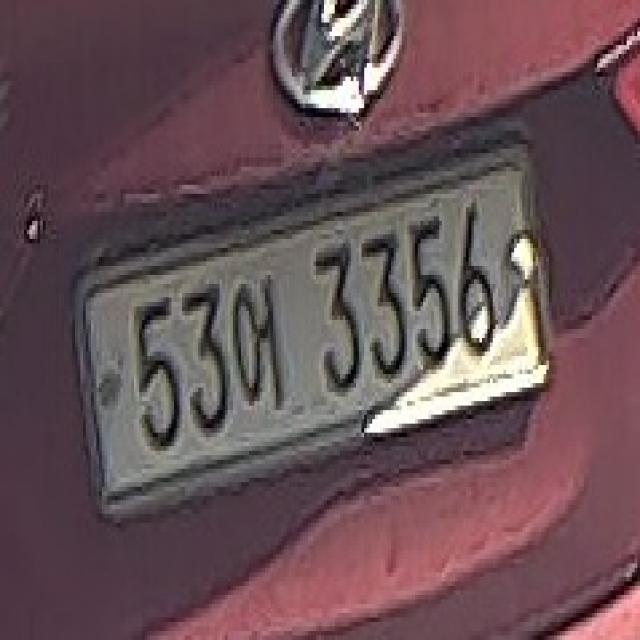3: (174, 270, 236, 447), (308, 221, 364, 401), (364, 216, 412, 406)
5: (123, 293, 185, 451), (404, 203, 452, 374)
6: (461, 180, 508, 365)
eo: (230, 252, 292, 438)
license_plate: (67, 126, 546, 564)
